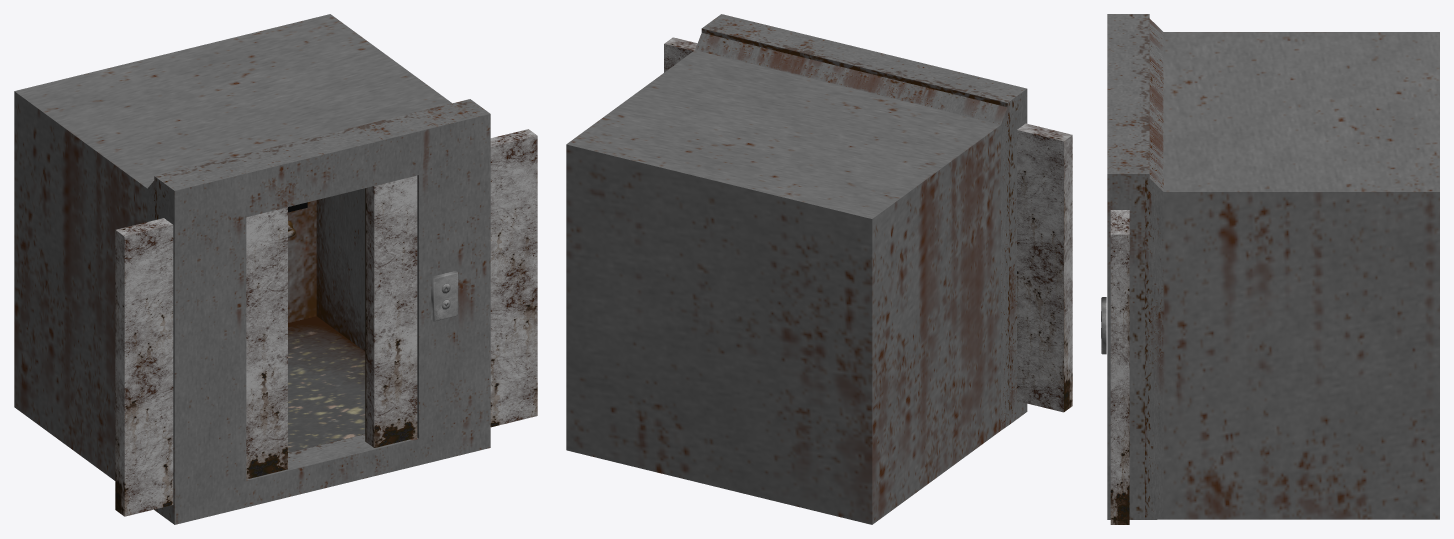
The model's file is elevator_new.fbx.
3 views of the same model, side by side, from view 1: azimuth 30°, elevation 25°; view 2: azimuth 150°, elevation 25°; view 3: azimuth 270°, elevation 25° (orthographic). The views are drawn at different scales.
Visible parts, largest first — view 1: elevator_cabin.001, elev_arch.001, elevator_doors.001, elev_buttons_outside.001; view 2: elevator_cabin.001, elevator_doors.001, elev_arch.001; view 3: elevator_cabin.001, elev_arch.001, elevator_doors.001.
Part boxes in pixels (x1,y1,x2,y2): elevator_cabin.001: [14, 14, 451, 511]; elev_arch.001: [154, 99, 490, 524]; elevator_doors.001: [115, 129, 537, 516]; elev_buttons_outside.001: [431, 271, 457, 321]; elevator_cabin.001: [566, 33, 1009, 524]; elevator_doors.001: [664, 37, 1072, 412]; elev_arch.001: [701, 14, 1027, 424]; elevator_cabin.001: [1145, 19, 1439, 519]; elev_arch.001: [1107, 14, 1149, 519]; elevator_doors.001: [1110, 210, 1129, 524].
Bounding box in the file's own units: 374 × 289 × 256.
Materials: 5 (5 with a texture image).
